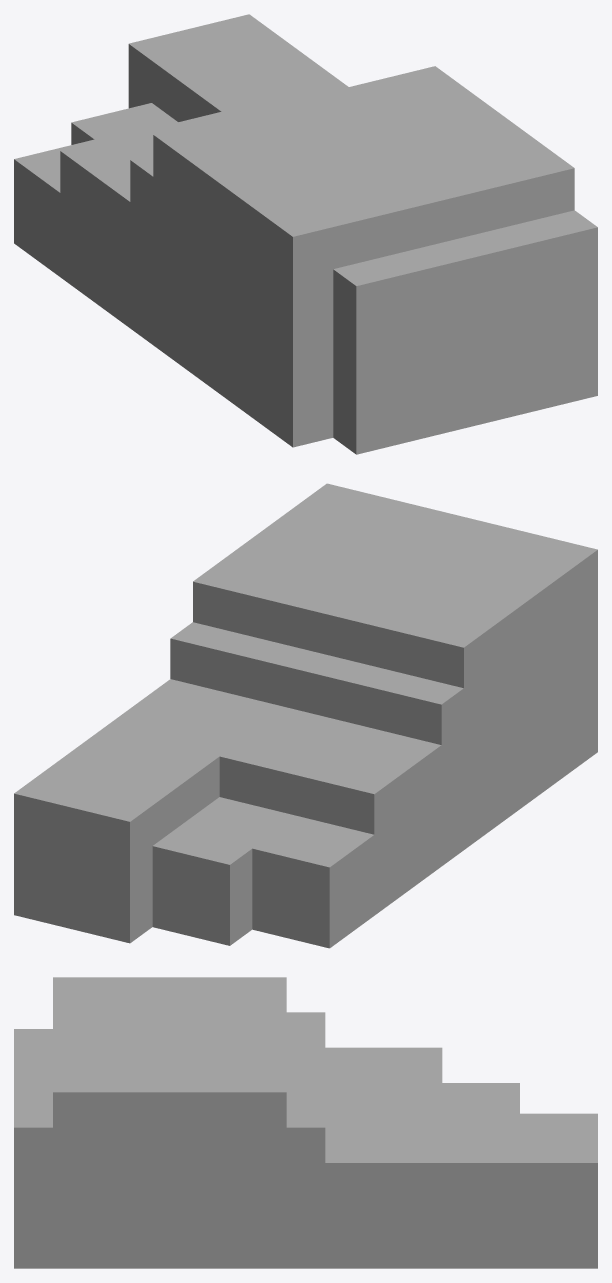
Rendered from gorilla-14-L_Foot.obj.
The picture shows the model from 3 angles, top to bottom: view 1: azimuth 30°, elevation 25°; view 2: azimuth 150°, elevation 25°; view 3: azimuth 270°, elevation 25°; orthographic projection. The views are drawn at different scales.
Visible parts, largest first — view 1: L_Foot; view 2: L_Foot; view 3: L_Foot.
Boxes of the visible parts, box(x1,y1,x2,y2) form: L_Foot: box(14, 14, 597, 454); L_Foot: box(14, 483, 597, 948); L_Foot: box(14, 977, 597, 1268).
Size of the model in its own units: 0.7 by 0.5 by 1.5.
1 material, 1 textured.
